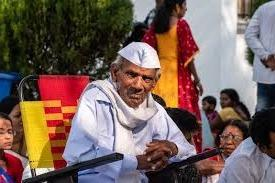Human: (70, 40, 183, 183), (154, 0, 205, 121), (213, 118, 248, 161), (0, 108, 15, 167)
